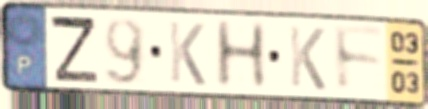9: (102, 16, 151, 86)
F: (331, 23, 388, 96)
H: (211, 18, 270, 91)
K: (166, 18, 208, 88), (287, 22, 328, 93)
Z: (46, 14, 101, 86)
